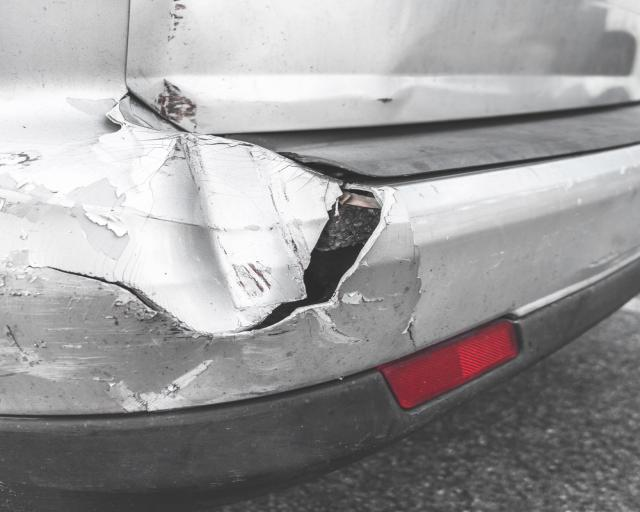crack: (30, 181, 384, 337)
dent: (115, 139, 242, 332)
scratch: (0, 134, 372, 412)
